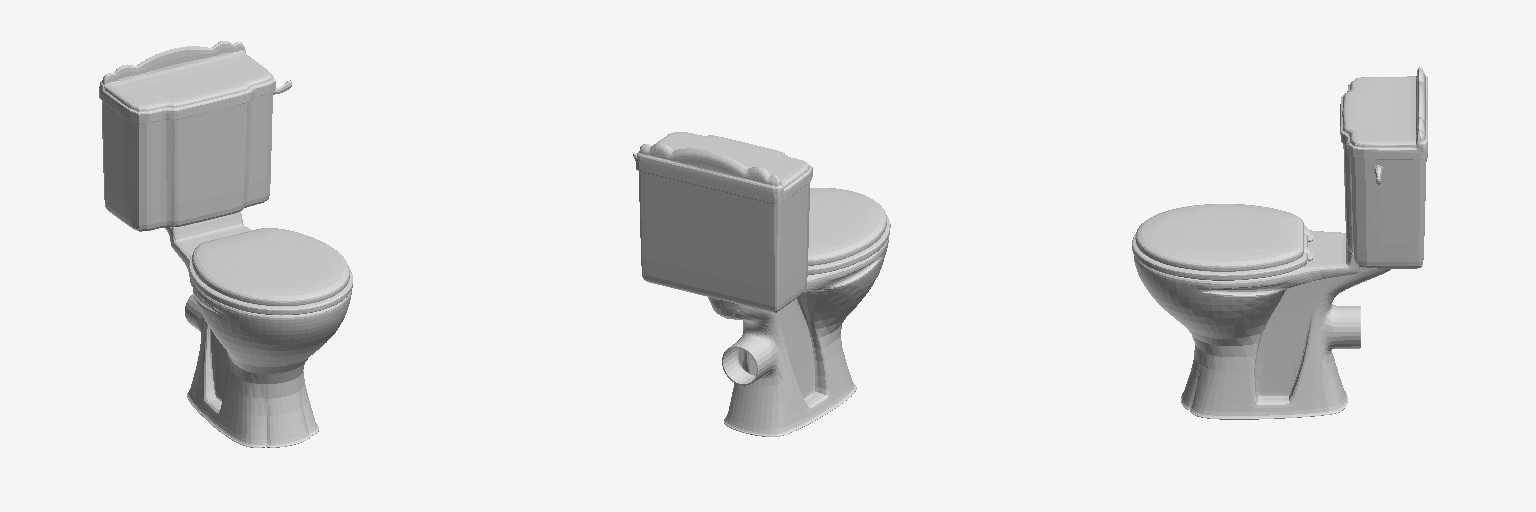
Rendered from toilet-water-closet.obj.
The picture shows the model from 3 angles: view 1: azimuth 30°, elevation 25°; view 2: azimuth 150°, elevation 25°; view 3: azimuth 270°, elevation 25°; orthographic projection.
Visible parts, largest first — view 1: WC; view 2: WC; view 3: WC.
Part boxes in pixels (left/top/right/bottom): WC: left=99, top=41, right=352, bottom=447; WC: left=633, top=132, right=890, bottom=436; WC: left=1132, top=67, right=1427, bottom=419.
Size of the model in its own units: 19.57 by 34.97 by 29.51.